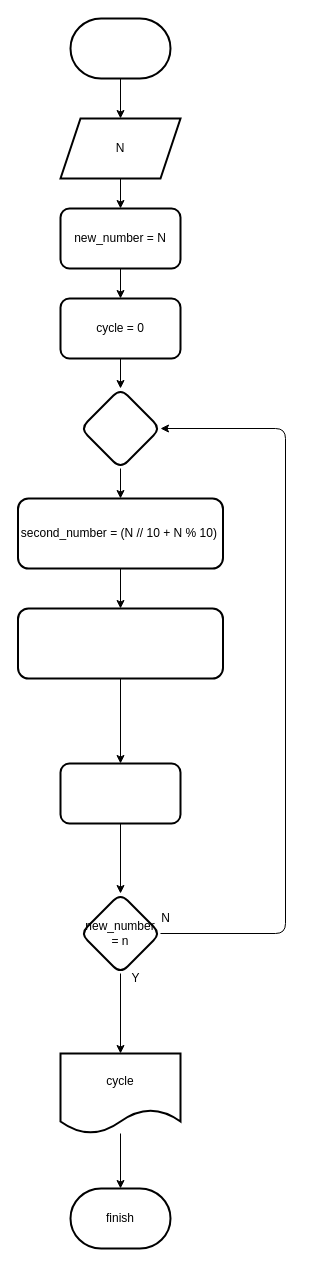
The diagram is 311 pixels wide and 1266 high, and some of its shapes have lost their labels. The box of each missing label's shape, as (x1, y1, x2, y2) in pixels:
cycle += 1: (59, 762, 181, 824)
new_number = (new_number % 10)* 10 + second_number: (16, 607, 224, 679)
start: (69, 17, 171, 79)
True: (79, 387, 161, 469)
